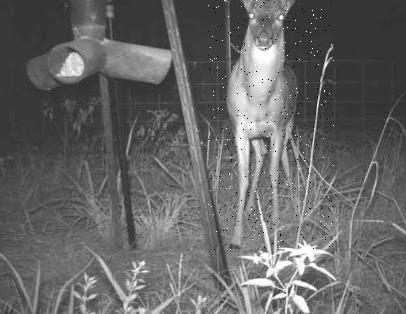Deer: (208, 0, 334, 250)
